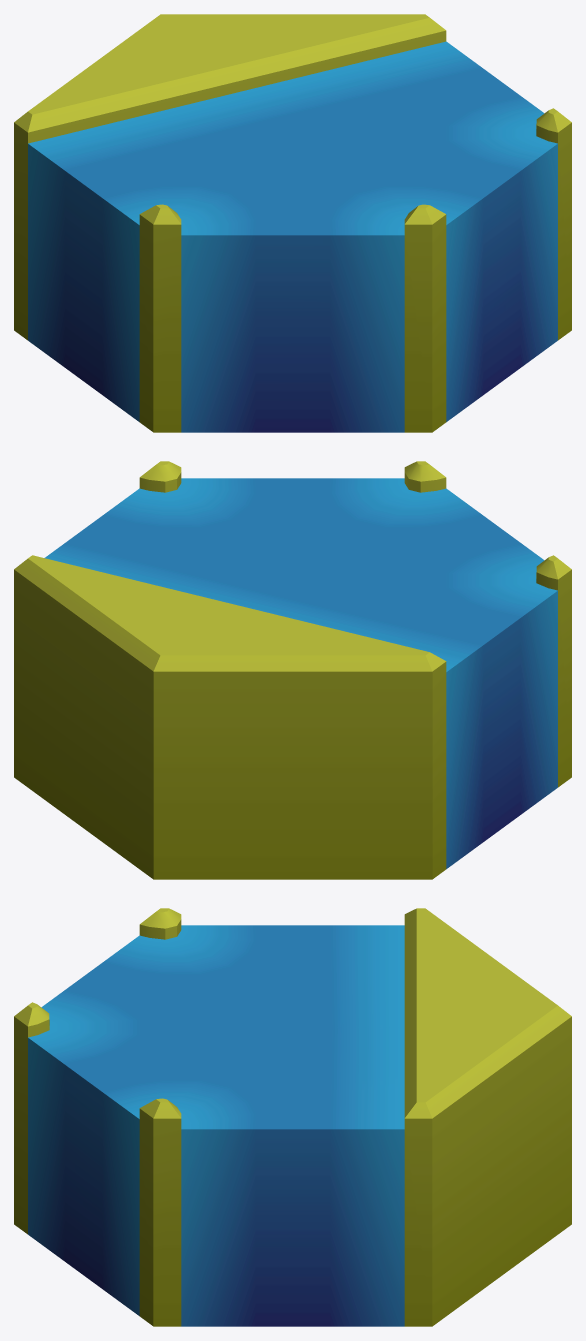
Rendered from kaykit-medieval-hexagon-pack-hex-river-j.glb.
The picture shows the model from 3 angles, top to bottom: view 1: azimuth 30°, elevation 25°; view 2: azimuth 150°, elevation 25°; view 3: azimuth 270°, elevation 25°; orthographic projection.
Visible parts, largest first — view 1: hex_river_J; view 2: hex_river_J; view 3: hex_river_J.
Part boxes in pixels (left/top/right/bottom): hex_river_J: left=14, top=14, right=571, bottom=432; hex_river_J: left=14, top=461, right=571, bottom=879; hex_river_J: left=14, top=908, right=571, bottom=1326.
Bounding box in the file's own units: 2 × 1 × 2.31.
1 material, 1 textured.
